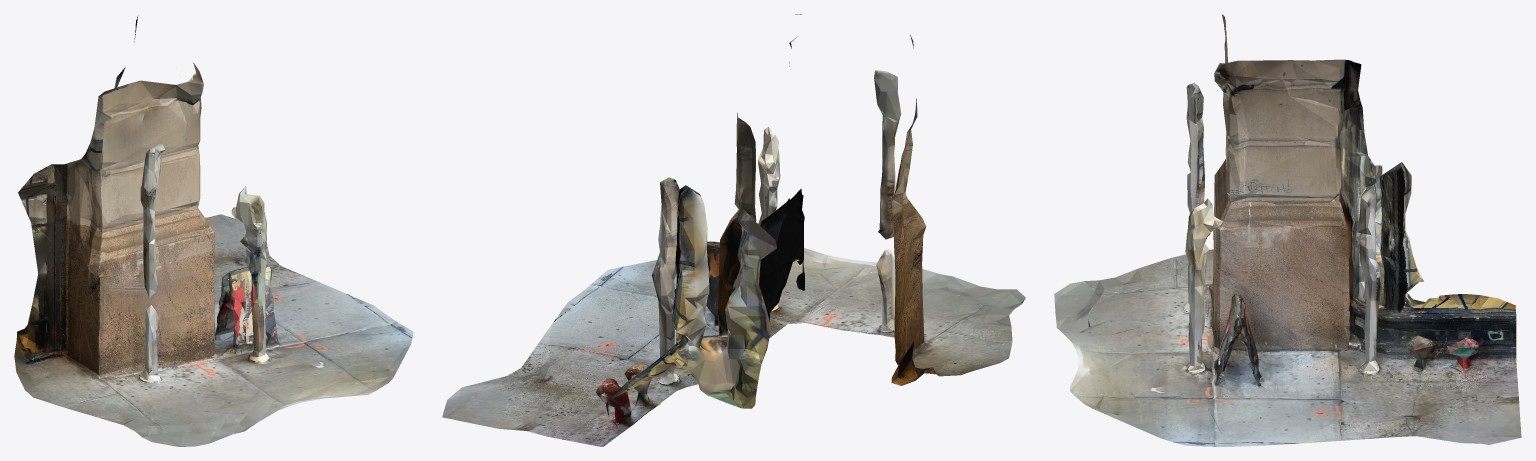
3 renders of one model, left to right at view 1: azimuth 30°, elevation 25°; view 2: azimuth 150°, elevation 25°; view 3: azimuth 270°, elevation 25°, orthographic. The views are drawn at different scales.
Size of the model in its own units: 5.2 by 4.04 by 5.76.
Materials: 1 (1 with a texture image).
